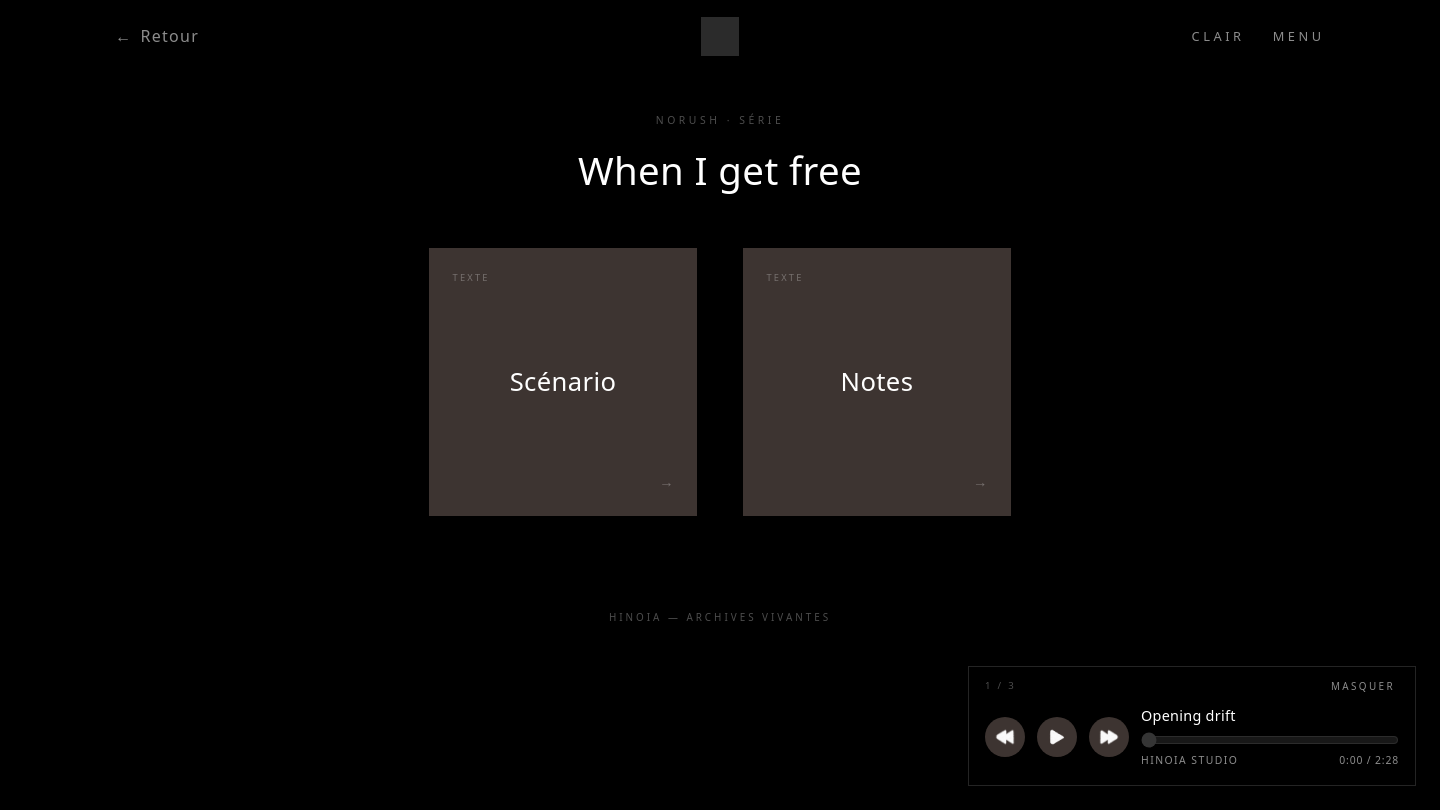
it: lecteur de bande-son › ouvre et ferme la fiche du titre, et permet d'y choisir une piste
Click the button "Opening drift" at (1270,715), box [1141,705,1399,726]
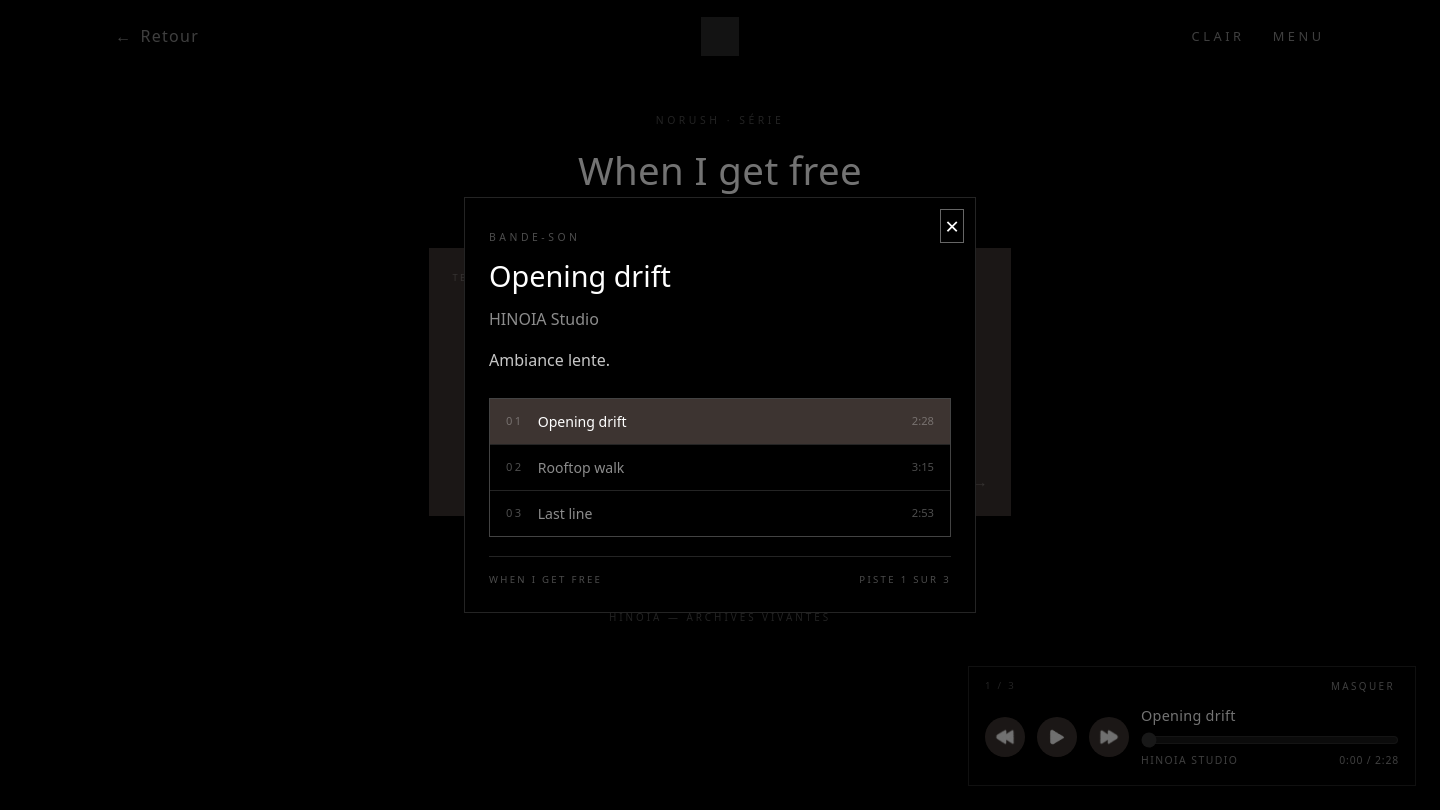
Expected: the text "Ambiance lente." is shown, [489,349,610,371]
Expected: the button "03 Last line 2:53" is shown
Click the button "03 Last line 2:53" at (565,514), box [490,491,950,536]
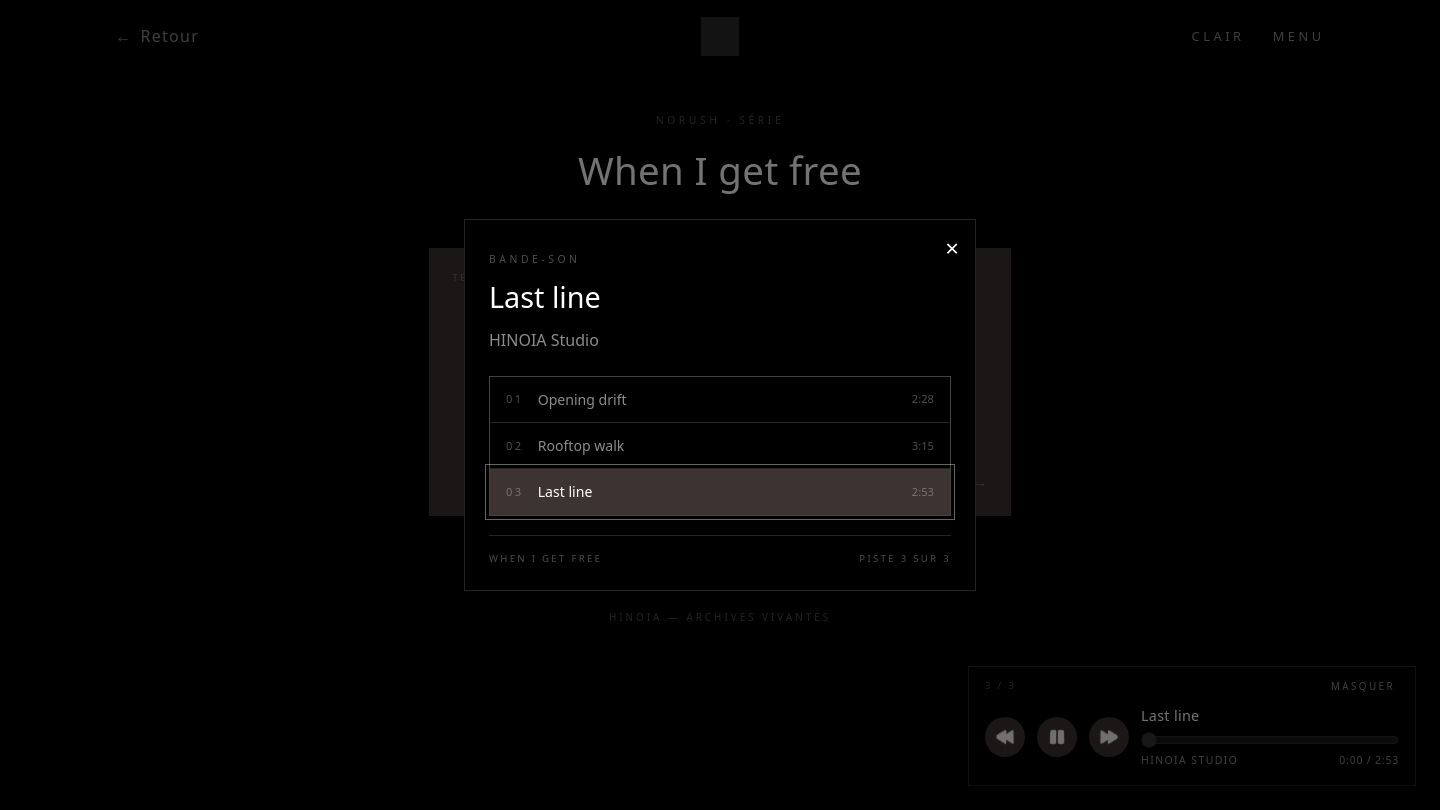
Press Escape
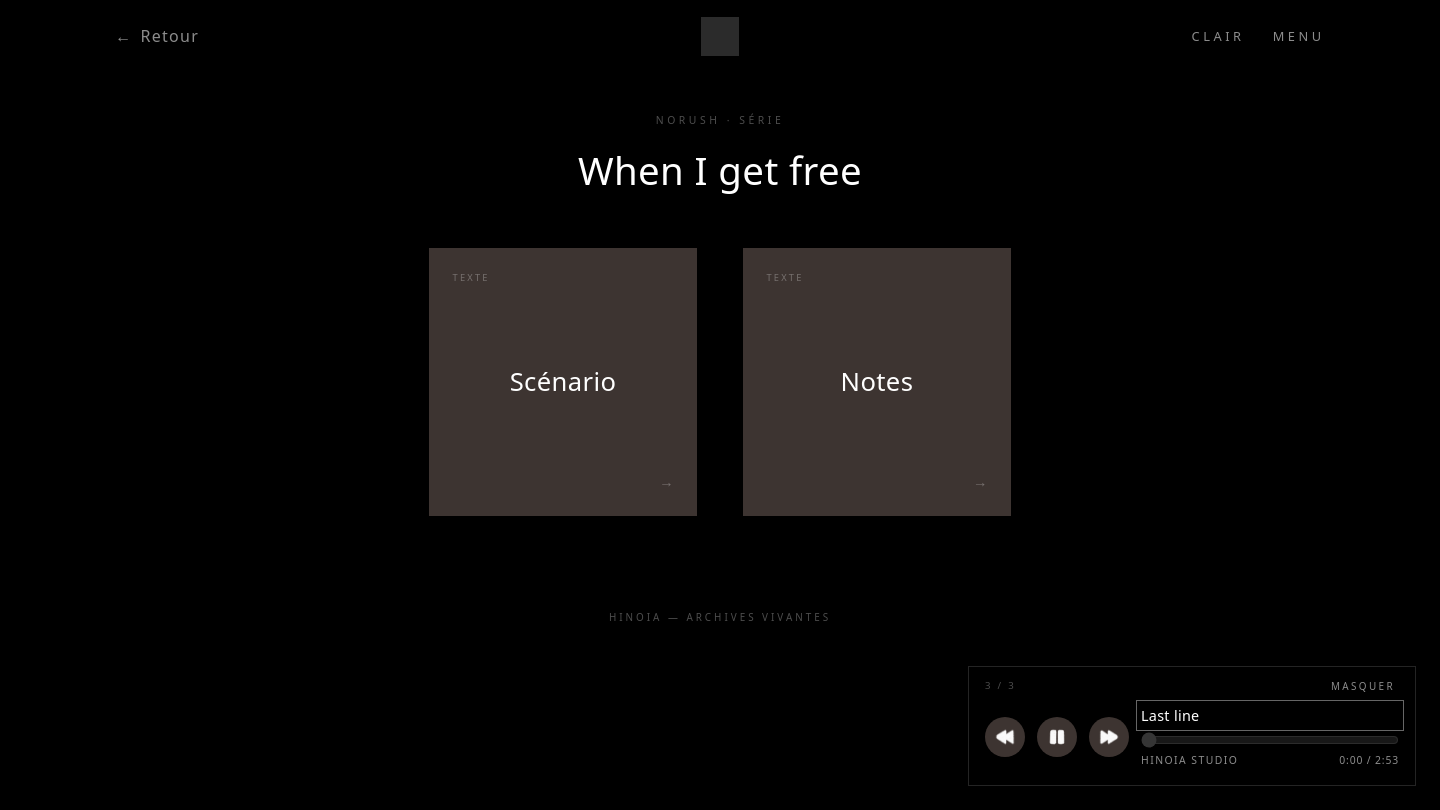
Expected: the dialog is gone
